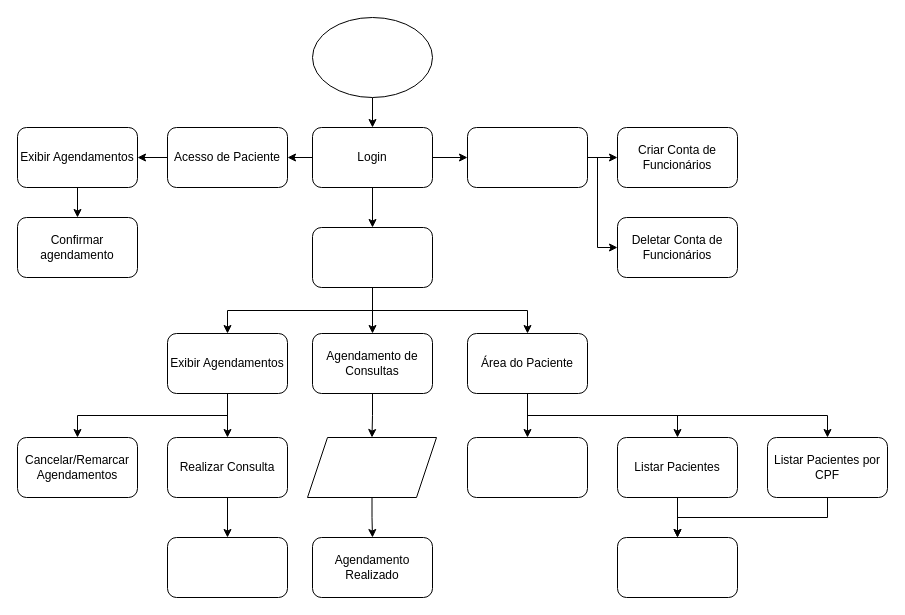
The diagram is 905 pixels wide and 615 high, and some of its shapes have lost their labels. Here are the shapes that lost their labels. From the top down, the centre of each, then its label:
At [372,57]: "Início".
At [527,157]: "Acesso de Administrador".
At [372,257]: "Acesso de Funcionário".
At [371,467]: "Endereço da Clínica, Data, Horário, Informações do Paciente".
At [527,467]: "Cadastro de Pacientes".
At [227,567]: "Gerar Prontuário Eletrônico".
At [677,567]: "Acessar Prontuário Do Paciente".
